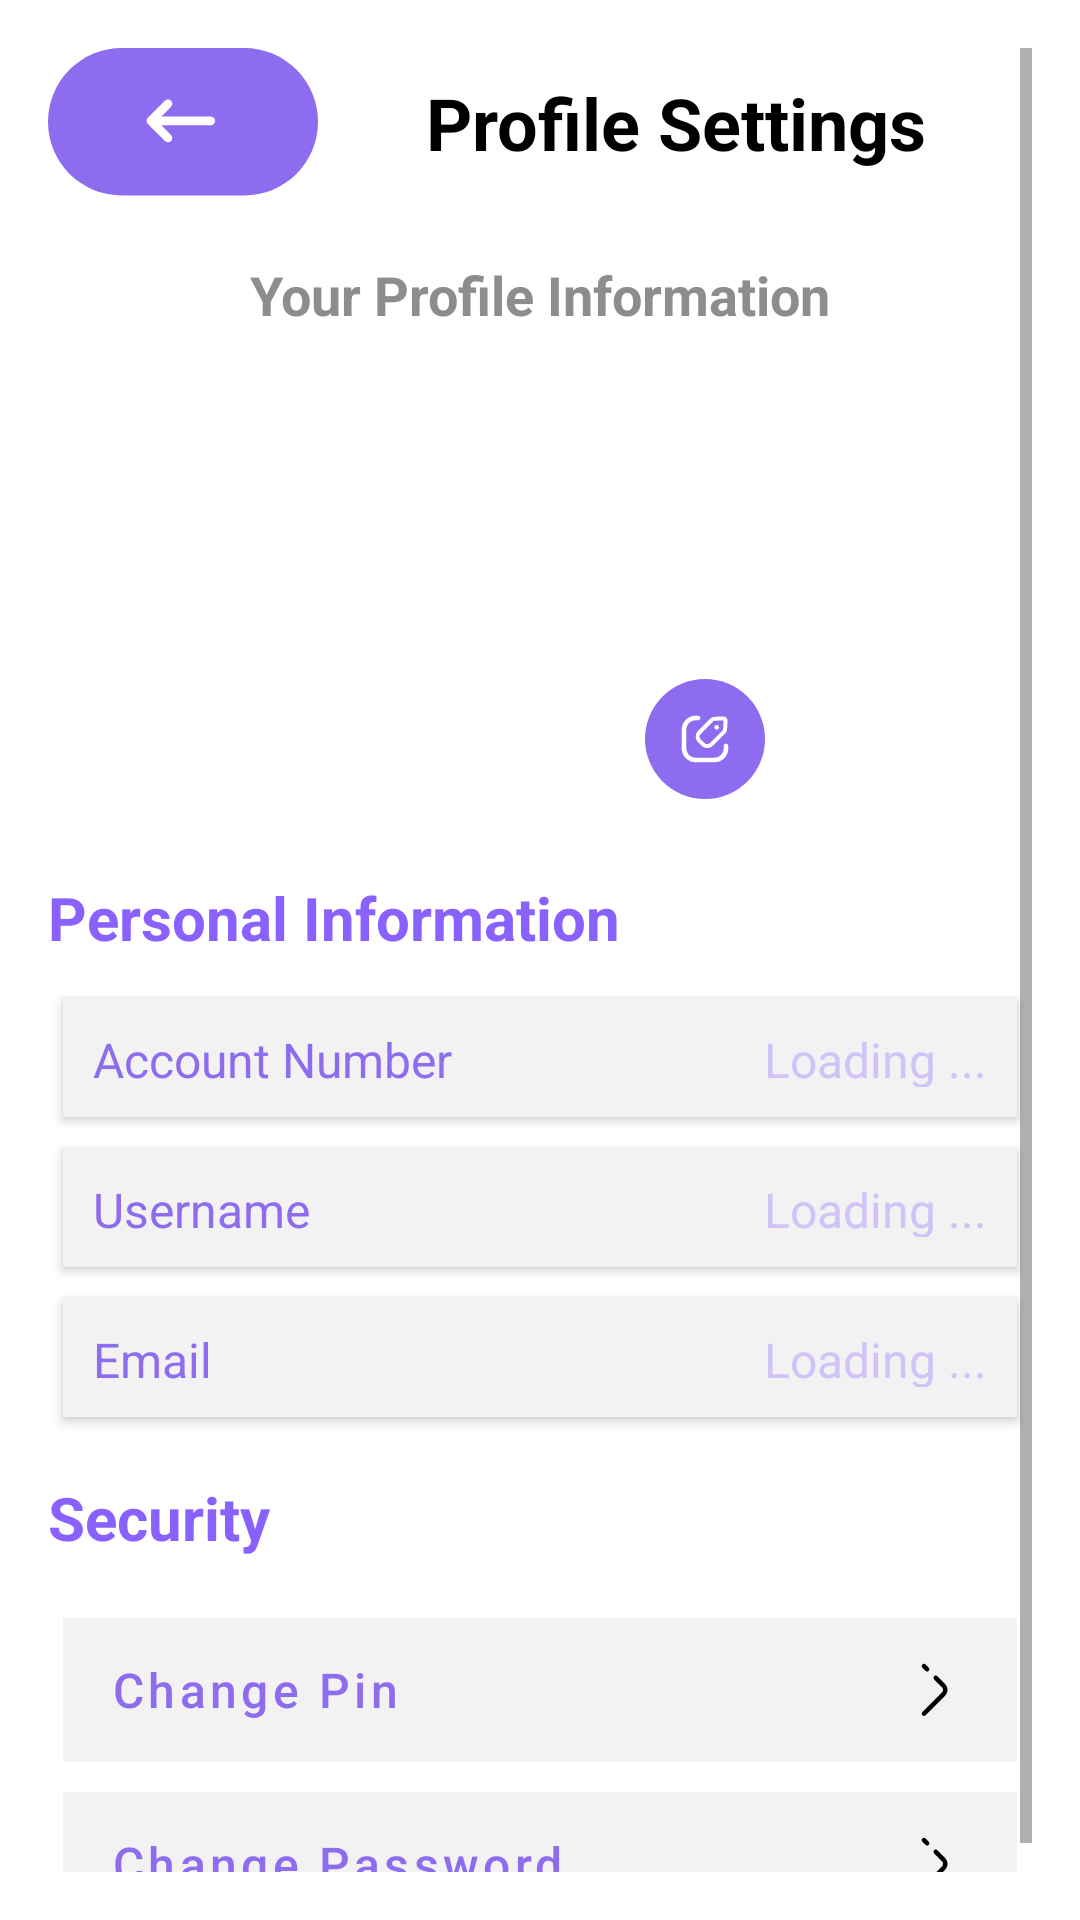

Screen size 1080×1920. Icon name, then its box in pixels as [x1,y1,x2,y2]:
back acount: [48,48,318,196]
